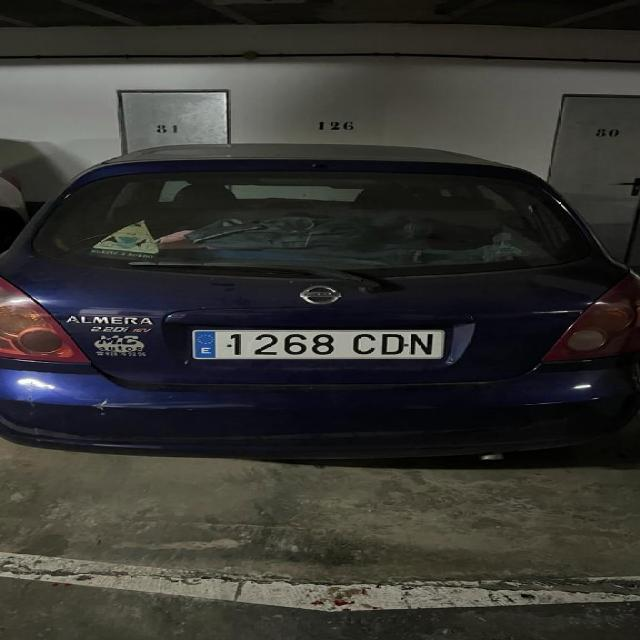License-Plate: (190, 327, 444, 362)
